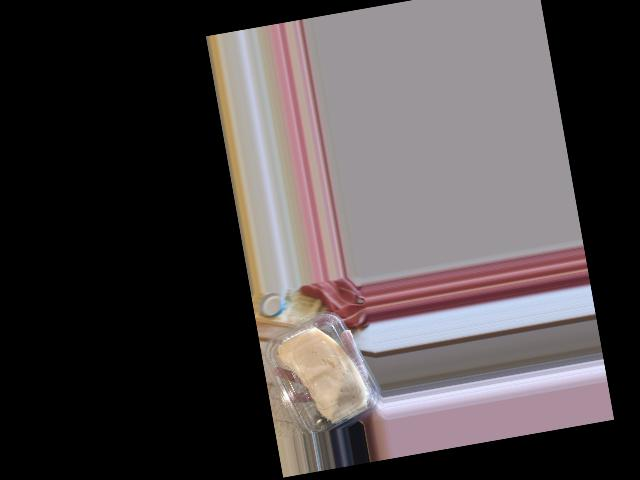cheese: (262, 304, 379, 439)
